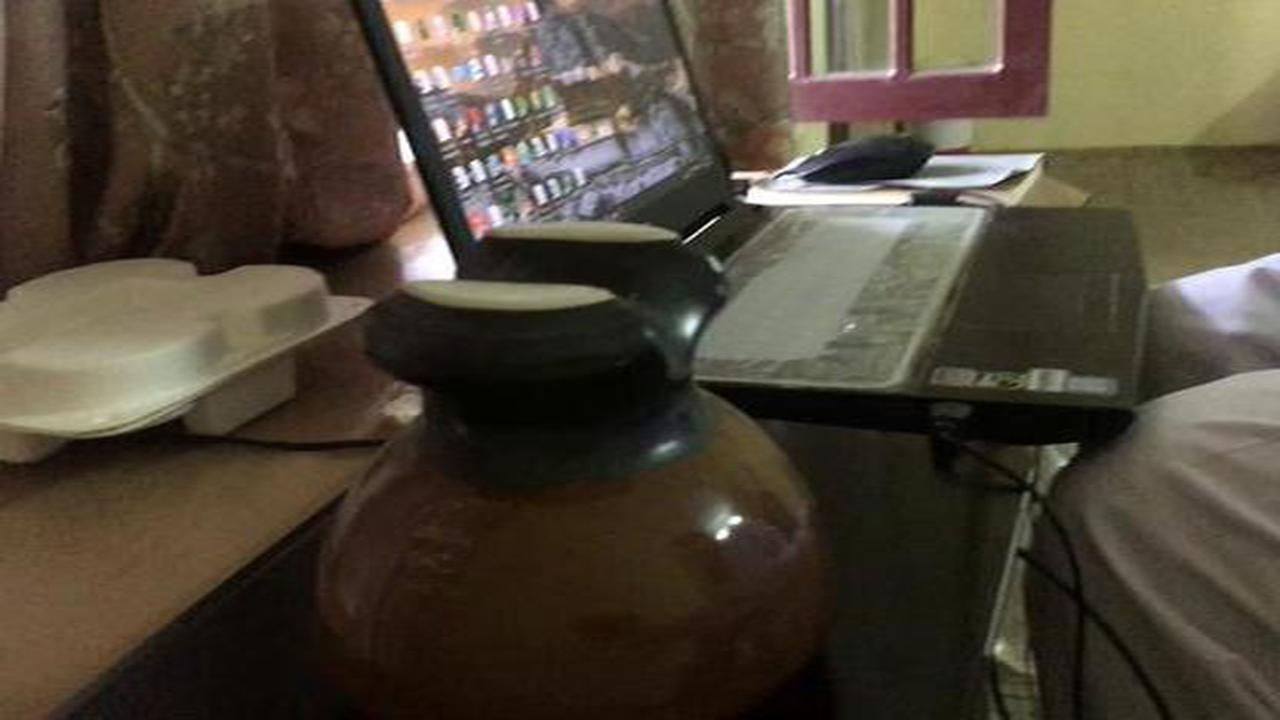insulator_pin: (299, 205, 856, 719)
